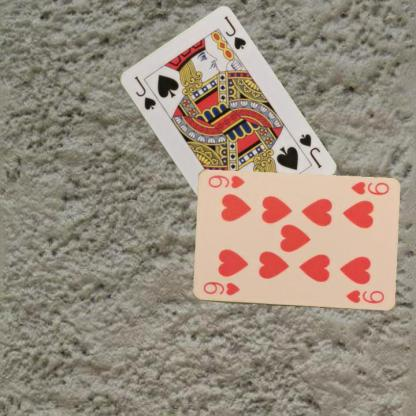9h: (348, 179, 390, 197), (200, 279, 241, 297)
Js: (296, 130, 323, 170), (131, 73, 157, 111)
